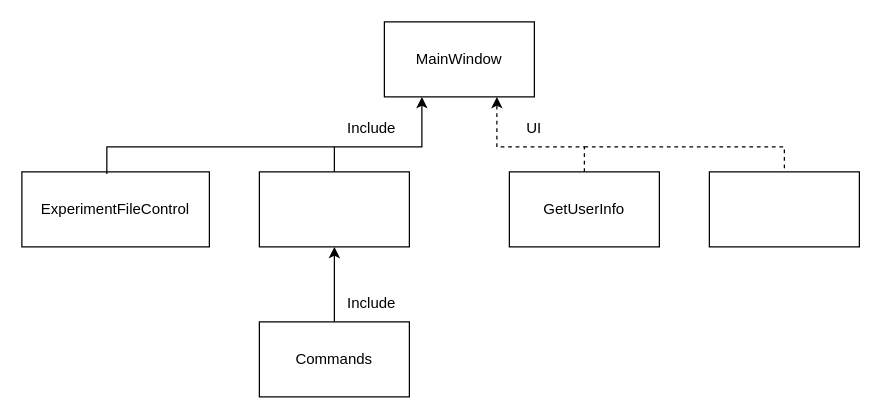
The diagram is 881 pixels wide and 419 high, and some of its shapes have lost their labels. The centre of each missing label's shape, as x and y in pixels:
ExperimentSetup: point (783, 209)
SerialControl: point (333, 209)
